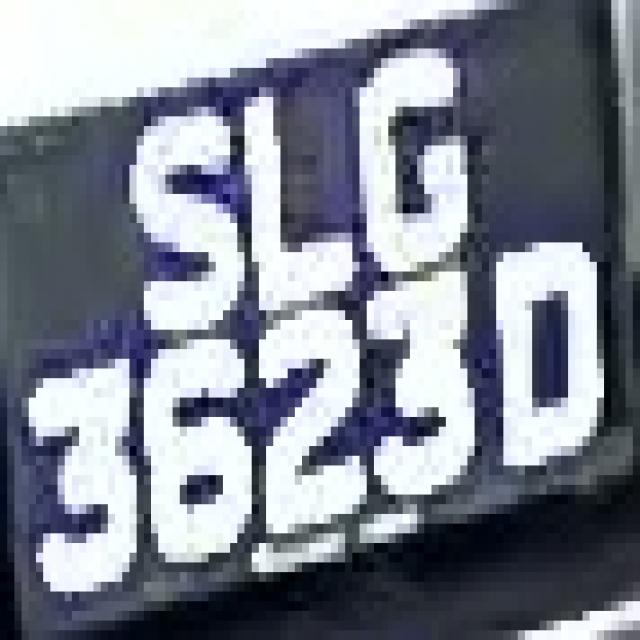2: (230, 301, 381, 572)
3: (345, 223, 482, 514), (15, 339, 136, 611)
6: (136, 330, 252, 572)
D: (475, 233, 611, 504)
G: (352, 29, 482, 281)
L: (230, 58, 367, 301)
S: (123, 68, 245, 339)
